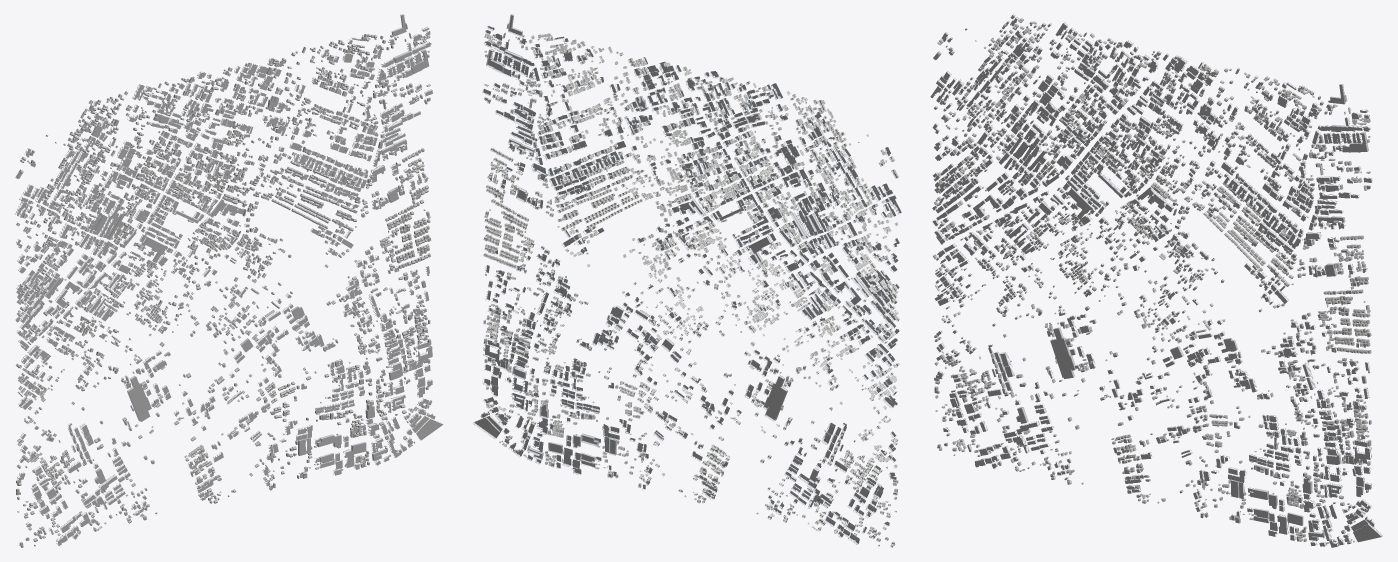
Rendered from buildings_0_4.obj.
3 views of the same model, side by side, from view 1: azimuth 30°, elevation 25°; view 2: azimuth 150°, elevation 25°; view 3: azimuth 330°, elevation 25° (orthographic). The views are drawn at different scales.
Bounding box in the file's own units: 2074 × 2069 × 31.27.
5 materials, 5 textured.
